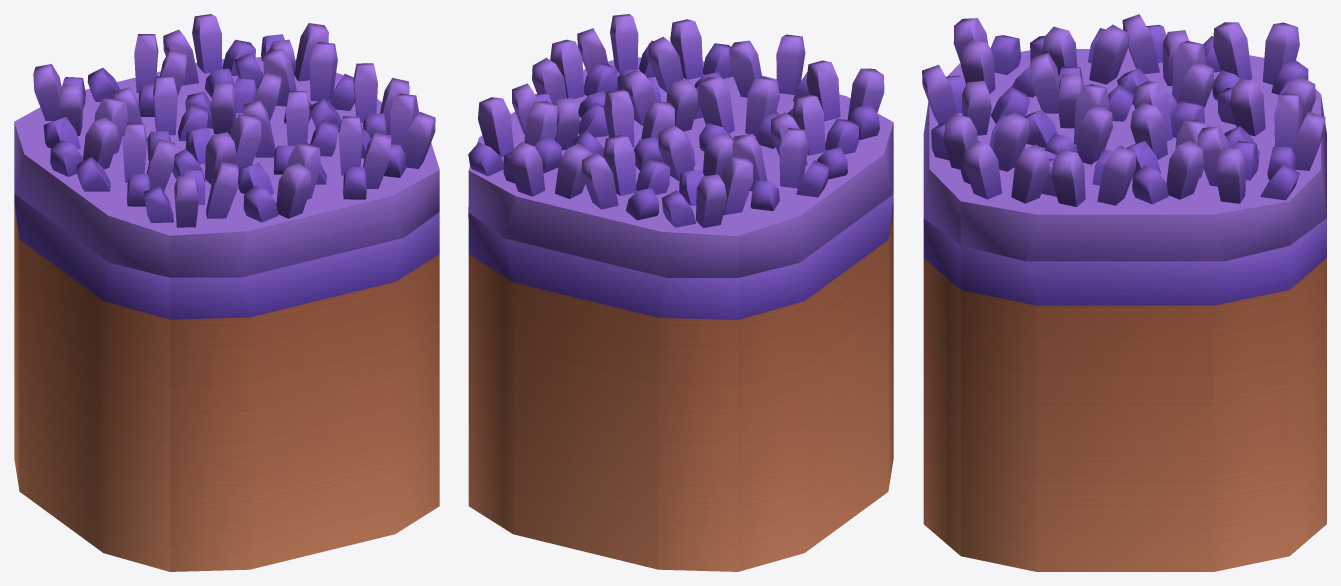
Rendered from bloco de grama 4 cantos com grama.glb.
3 renders of one model, left to right at view 1: azimuth 30°, elevation 25°; view 2: azimuth 150°, elevation 25°; view 3: azimuth 270°, elevation 25°, orthographic. The views are drawn at different scales.
Parts seen in each view (by area): view 1: block-grass; view 2: block-grass; view 3: block-grass.
Boxes of the visible parts, bbox=[...] form: block-grass: bbox=[14, 14, 439, 571]; block-grass: bbox=[468, 14, 893, 571]; block-grass: bbox=[922, 14, 1326, 571].
Size of the model in its own units: 1.03 by 1.15 by 1.03.
Materials: 2 (2 with a texture image).
